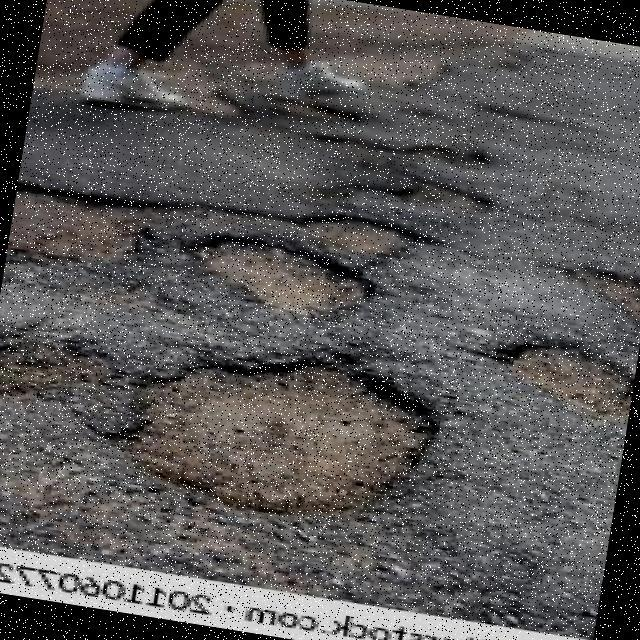Pothole: (134, 359, 437, 515), (187, 234, 380, 314), (479, 343, 632, 415)
